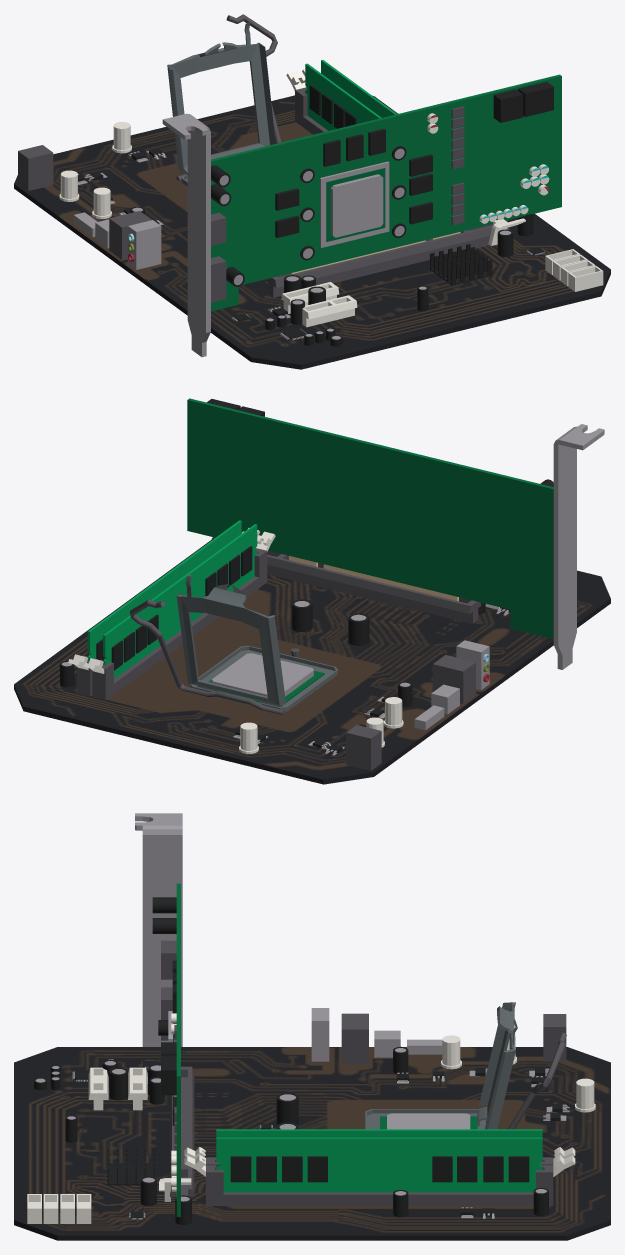
Rendered from Advanced computing circuit.fbx.
3 views of the same model, one above another, from view 1: azimuth 30°, elevation 25°; view 2: azimuth 150°, elevation 25°; view 3: azimuth 270°, elevation 25° (orthographic). The views are drawn at different scales.
Parts seen in each view (by area): view 1: advanced_computing_circuit; view 2: advanced_computing_circuit; view 3: advanced_computing_circuit.
Part boxes in pixels (box(x1,y1,x2,y2)): advanced_computing_circuit: box(14, 14, 610, 369); advanced_computing_circuit: box(14, 398, 610, 784); advanced_computing_circuit: box(14, 813, 610, 1240).
Size of the model in its own units: 1.51 by 0.8517 by 1.84.
